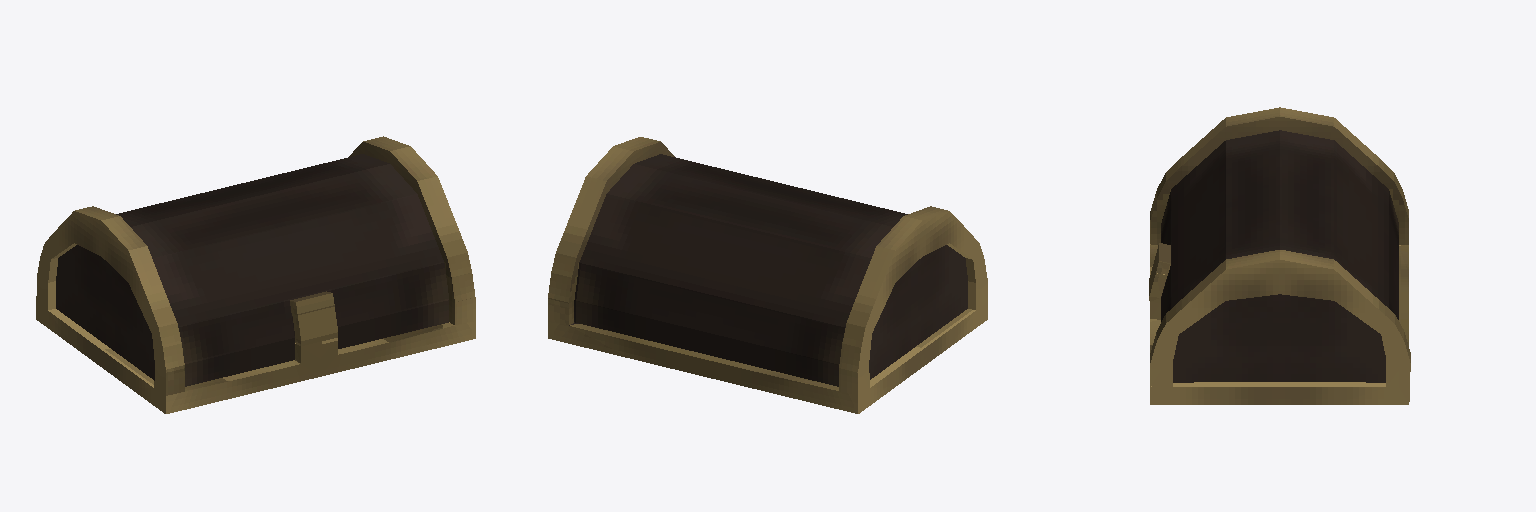
The picture shows the model from 3 angles: view 1: azimuth 30°, elevation 25°; view 2: azimuth 150°, elevation 25°; view 3: azimuth 270°, elevation 25°; orthographic projection.
Parts seen in each view (by area): view 1: 立方体; view 2: 立方体; view 3: 立方体.
Part boxes in pixels (bbox=[...]): 立方体: bbox=[36, 136, 475, 413]; 立方体: bbox=[548, 137, 987, 413]; 立方体: bbox=[1149, 107, 1410, 404].
Size of the model in its own units: 4.89 by 2.2 by 3.57.
1 materials, 1 textured.